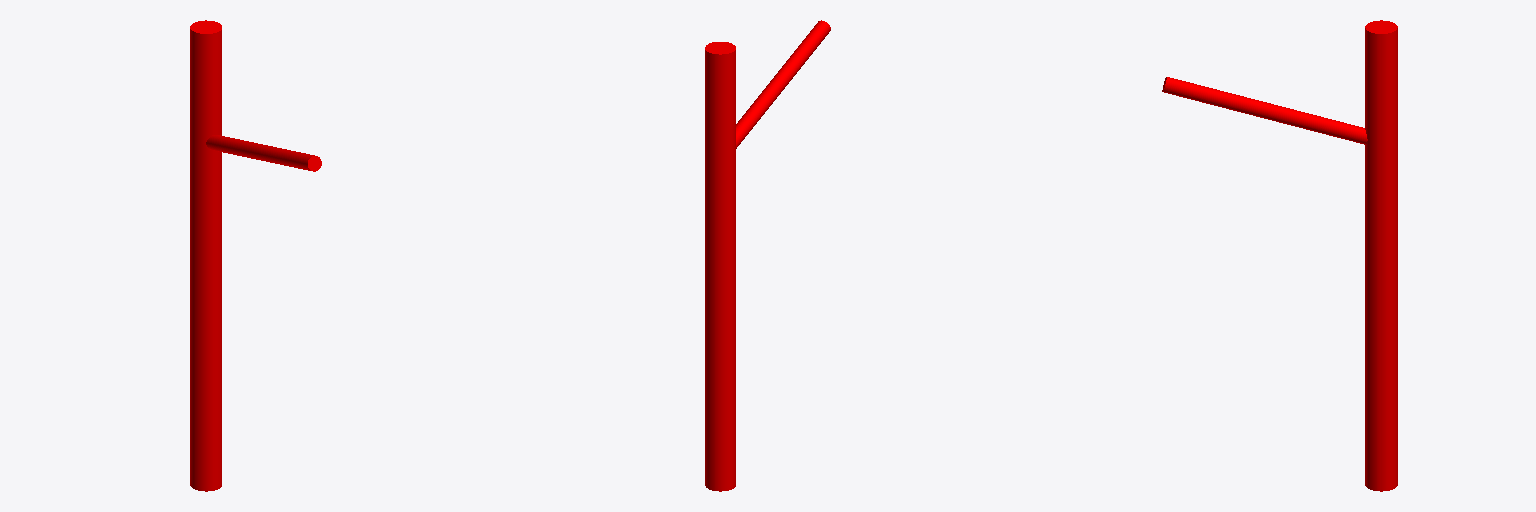
The robot description file, URDF, robot "tree.urdf":
<?xml version="1.0" ?>
<robot name="tree.urdf">
  <link name="baseLink">
    <inertial>
      <origin rpy="0 0 0" xyz="0 0 0"/>
       <mass value=".1"/>
       <inertia ixx="1" ixy="0" ixz="0" iyy="1" iyz="0" izz="1"/>
    </inertial>
    <contact>
      <lateral_friction value="1.0"/>
      <inertia_scaling value="3.0"/>
    </contact>
    <visual>
      <origin rpy="0 0 0" xyz="0 0 0"/>
      <geometry>
        <mesh filename="4.stl" scale="1 1 1" />
      </geometry>
      <material name="red">
        <color rgba="1 0 0 1"/>
      </material>
    </visual>
    <collision>
      <origin rpy="0 0 0" xyz="0 0 0"/>
      <geometry>
        <mesh filename="4_convex.obj" scale="1 1 1" />
      </geometry>
    </collision>
  </link>
</robot>

--- What the picture shows (computed from the rendered views, not written in the file) ---
3 views of the same robot in one strip: view 1: azimuth 30°, elevation 25°; view 2: azimuth 150°, elevation 25°; view 3: azimuth 270°, elevation 25° (orthographic).
Model tree.urdf with 1 links and 0 joints (none), rooted at baseLink, posed all joints at 0.
Links seen in each view (by area): view 1: baseLink; view 2: baseLink; view 3: baseLink.
Link boxes in pixels (box(x1,y1,x2,y2)): baseLink: box(190, 20, 321, 491); baseLink: box(705, 20, 830, 491); baseLink: box(1162, 20, 1397, 491).
Bounding box of the posed robot: 0.0308 × 0.2246 × 0.4818 m (x, y, z).
Meshes: 1 distinct files referenced, 1 mesh visuals loaded (1 binary STL).